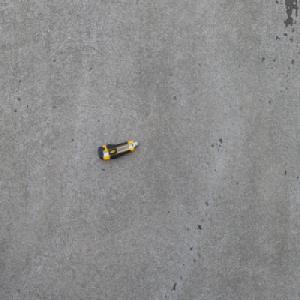Cutter: (97, 140, 138, 160)
